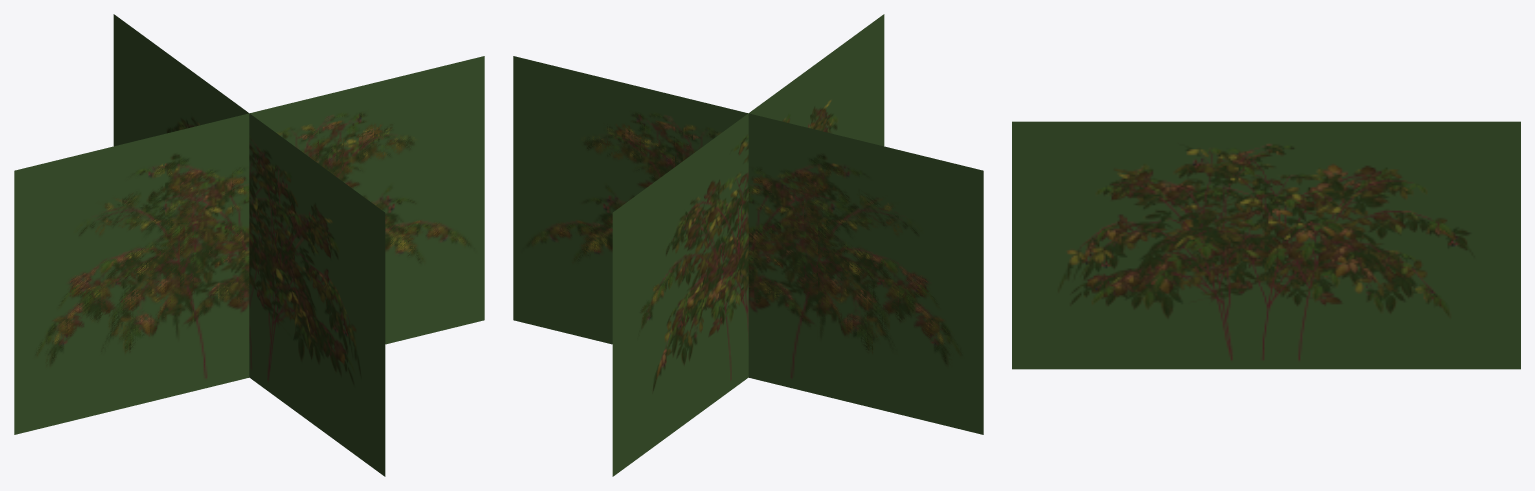
File: BlBerry1_LOD4.fbx
3 views of the same model, side by side, from view 1: azimuth 30°, elevation 25°; view 2: azimuth 150°, elevation 25°; view 3: azimuth 270°, elevation 25° (orthographic). The views are drawn at different scales.
Parts seen in each view (by area): view 1: polySurface1047; view 2: polySurface1047; view 3: polySurface1047.
Boxes of the visible parts, x1,y1,x2,y2 form: polySurface1047: [14, 14, 484, 476]; polySurface1047: [513, 14, 983, 476]; polySurface1047: [1012, 121, 1520, 369].
Size of the model in its own units: 416 by 223 by 416.
